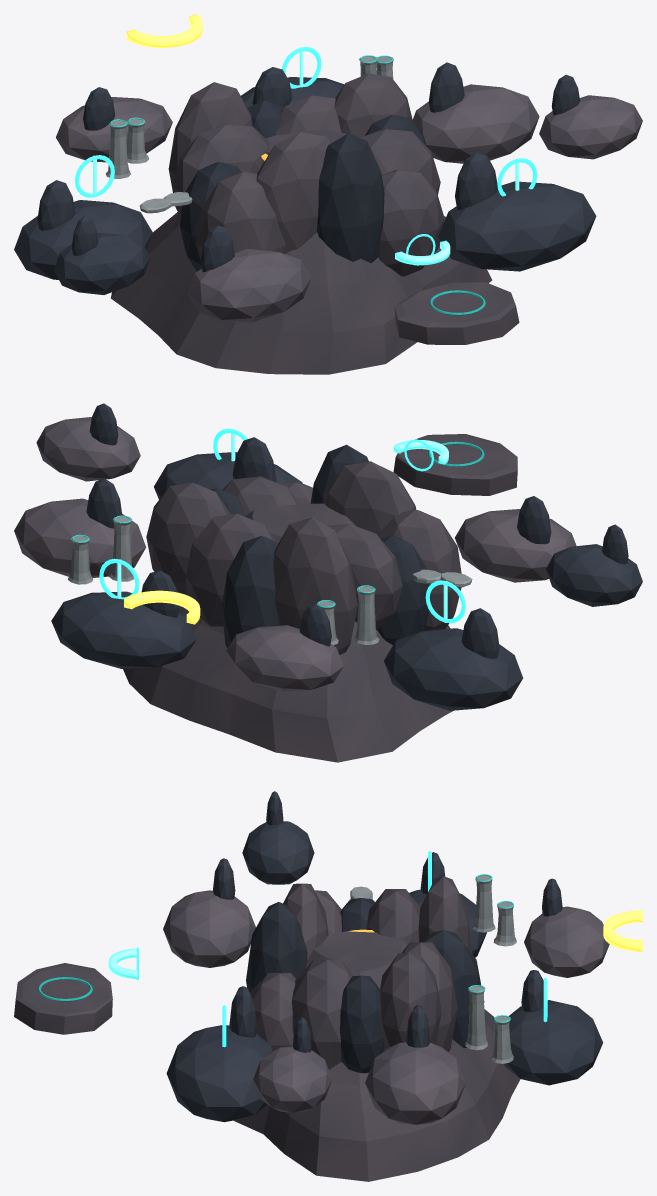
The model's file is volcanic-archipelago-low.glb.
3 renders of one model, top to bottom at view 1: azimuth 30°, elevation 25°; view 2: azimuth 150°, elevation 25°; view 3: azimuth 270°, elevation 25°, orthographic. The views are drawn at different scales.
Visible parts, largest first — view 1: VolcanoCaldera, ObsidianIslands, LandingPad, CoolingRuins, EscapeGate, ExpeditionBeacon, BrokenBridge, CoolingSeal_1, CoolingSeal_3, CoolingSeal_2; view 2: VolcanoCaldera, ObsidianIslands, LandingPad, CoolingRuins, EscapeGate, ExpeditionBeacon, CoolingSeal_1, BrokenBridge, CoolingSeal_3; view 3: VolcanoCaldera, ObsidianIslands, LandingPad, CoolingRuins, EscapeGate, ExpeditionBeacon.
Boxes of the visible parts, x1,y1,x2,y2 form: VolcanoCaldera: (110,73,492,374); ObsidianIslands: (14,62,642,322); LandingPad: (394,282,519,344); CoolingRuins: (105,55,393,178); EscapeGate: (126,14,202,47); ExpeditionBeacon: (395,234,450,265); BrokenBridge: (139,192,192,213); CoolingSeal_1: (75,155,114,197); CoolingSeal_3: (282,47,321,88); CoolingSeal_2: (497,158,537,196); VolcanoCaldera: (123,444,461,762); ObsidianIslands: (14,403,642,710); LandingPad: (393,434,517,495); CoolingRuins: (68,515,379,645); EscapeGate: (124,590,200,624); ExpeditionBeacon: (393,439,448,471); CoolingSeal_1: (425,580,465,623); BrokenBridge: (412,569,472,587); CoolingSeal_3: (99,558,139,599); VolcanoCaldera: (234,876,520,1181); ObsidianIslands: (163,791,609,1124); LandingPad: (14,963,112,1034); CoolingRuins: (465,874,516,1063); EscapeGate: (603,910,642,951); ExpeditionBeacon: (108,947,138,980).
Size of the model in its own units: 183 by 60.47 by 174.
